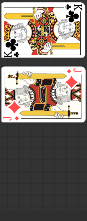JD: (66, 67, 83, 74)
